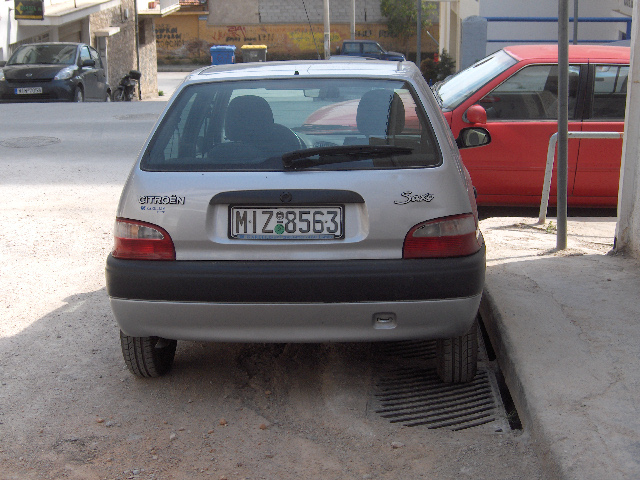licenseplate: (229, 206, 342, 238)
